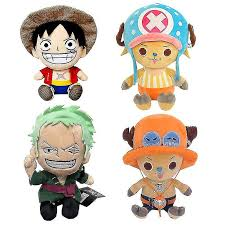chopper: (115, 3, 198, 72), (123, 114, 200, 182)
luffy: (20, 6, 98, 72)
